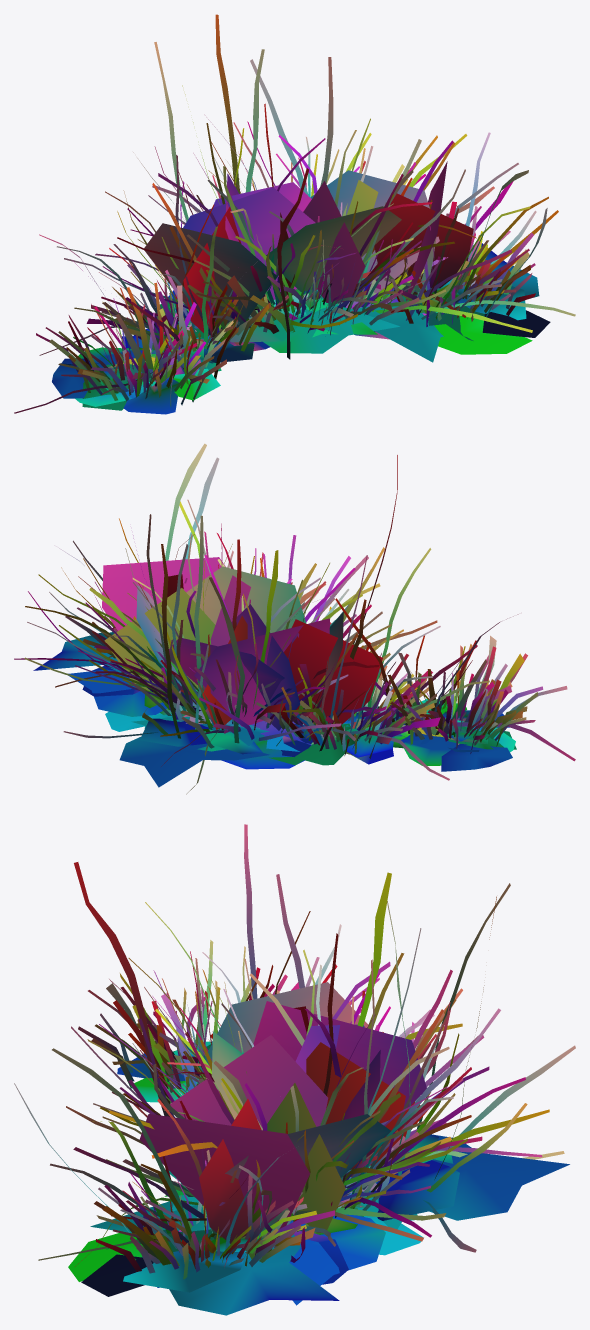
File: Wild_Grass_vdilbaiia_Mid_vdilbaiia_VarK_LOD2.fbx
3 renders of one model, top to bottom at view 1: azimuth 30°, elevation 25°; view 2: azimuth 150°, elevation 25°; view 3: azimuth 270°, elevation 25°, orthographic. The views are drawn at different scales.
Parts seen in each view (by area): view 1: _r4qn_VarK_LOD3; view 2: _r4qn_VarK_LOD3; view 3: _r4qn_VarK_LOD3.
Part boxes in pixels (x1,y1,x2,y2): _r4qn_VarK_LOD3: [14, 14, 575, 414]; _r4qn_VarK_LOD3: [14, 443, 575, 794]; _r4qn_VarK_LOD3: [14, 824, 575, 1315].
Size of the model in its own units: 158 by 67.95 by 114.
